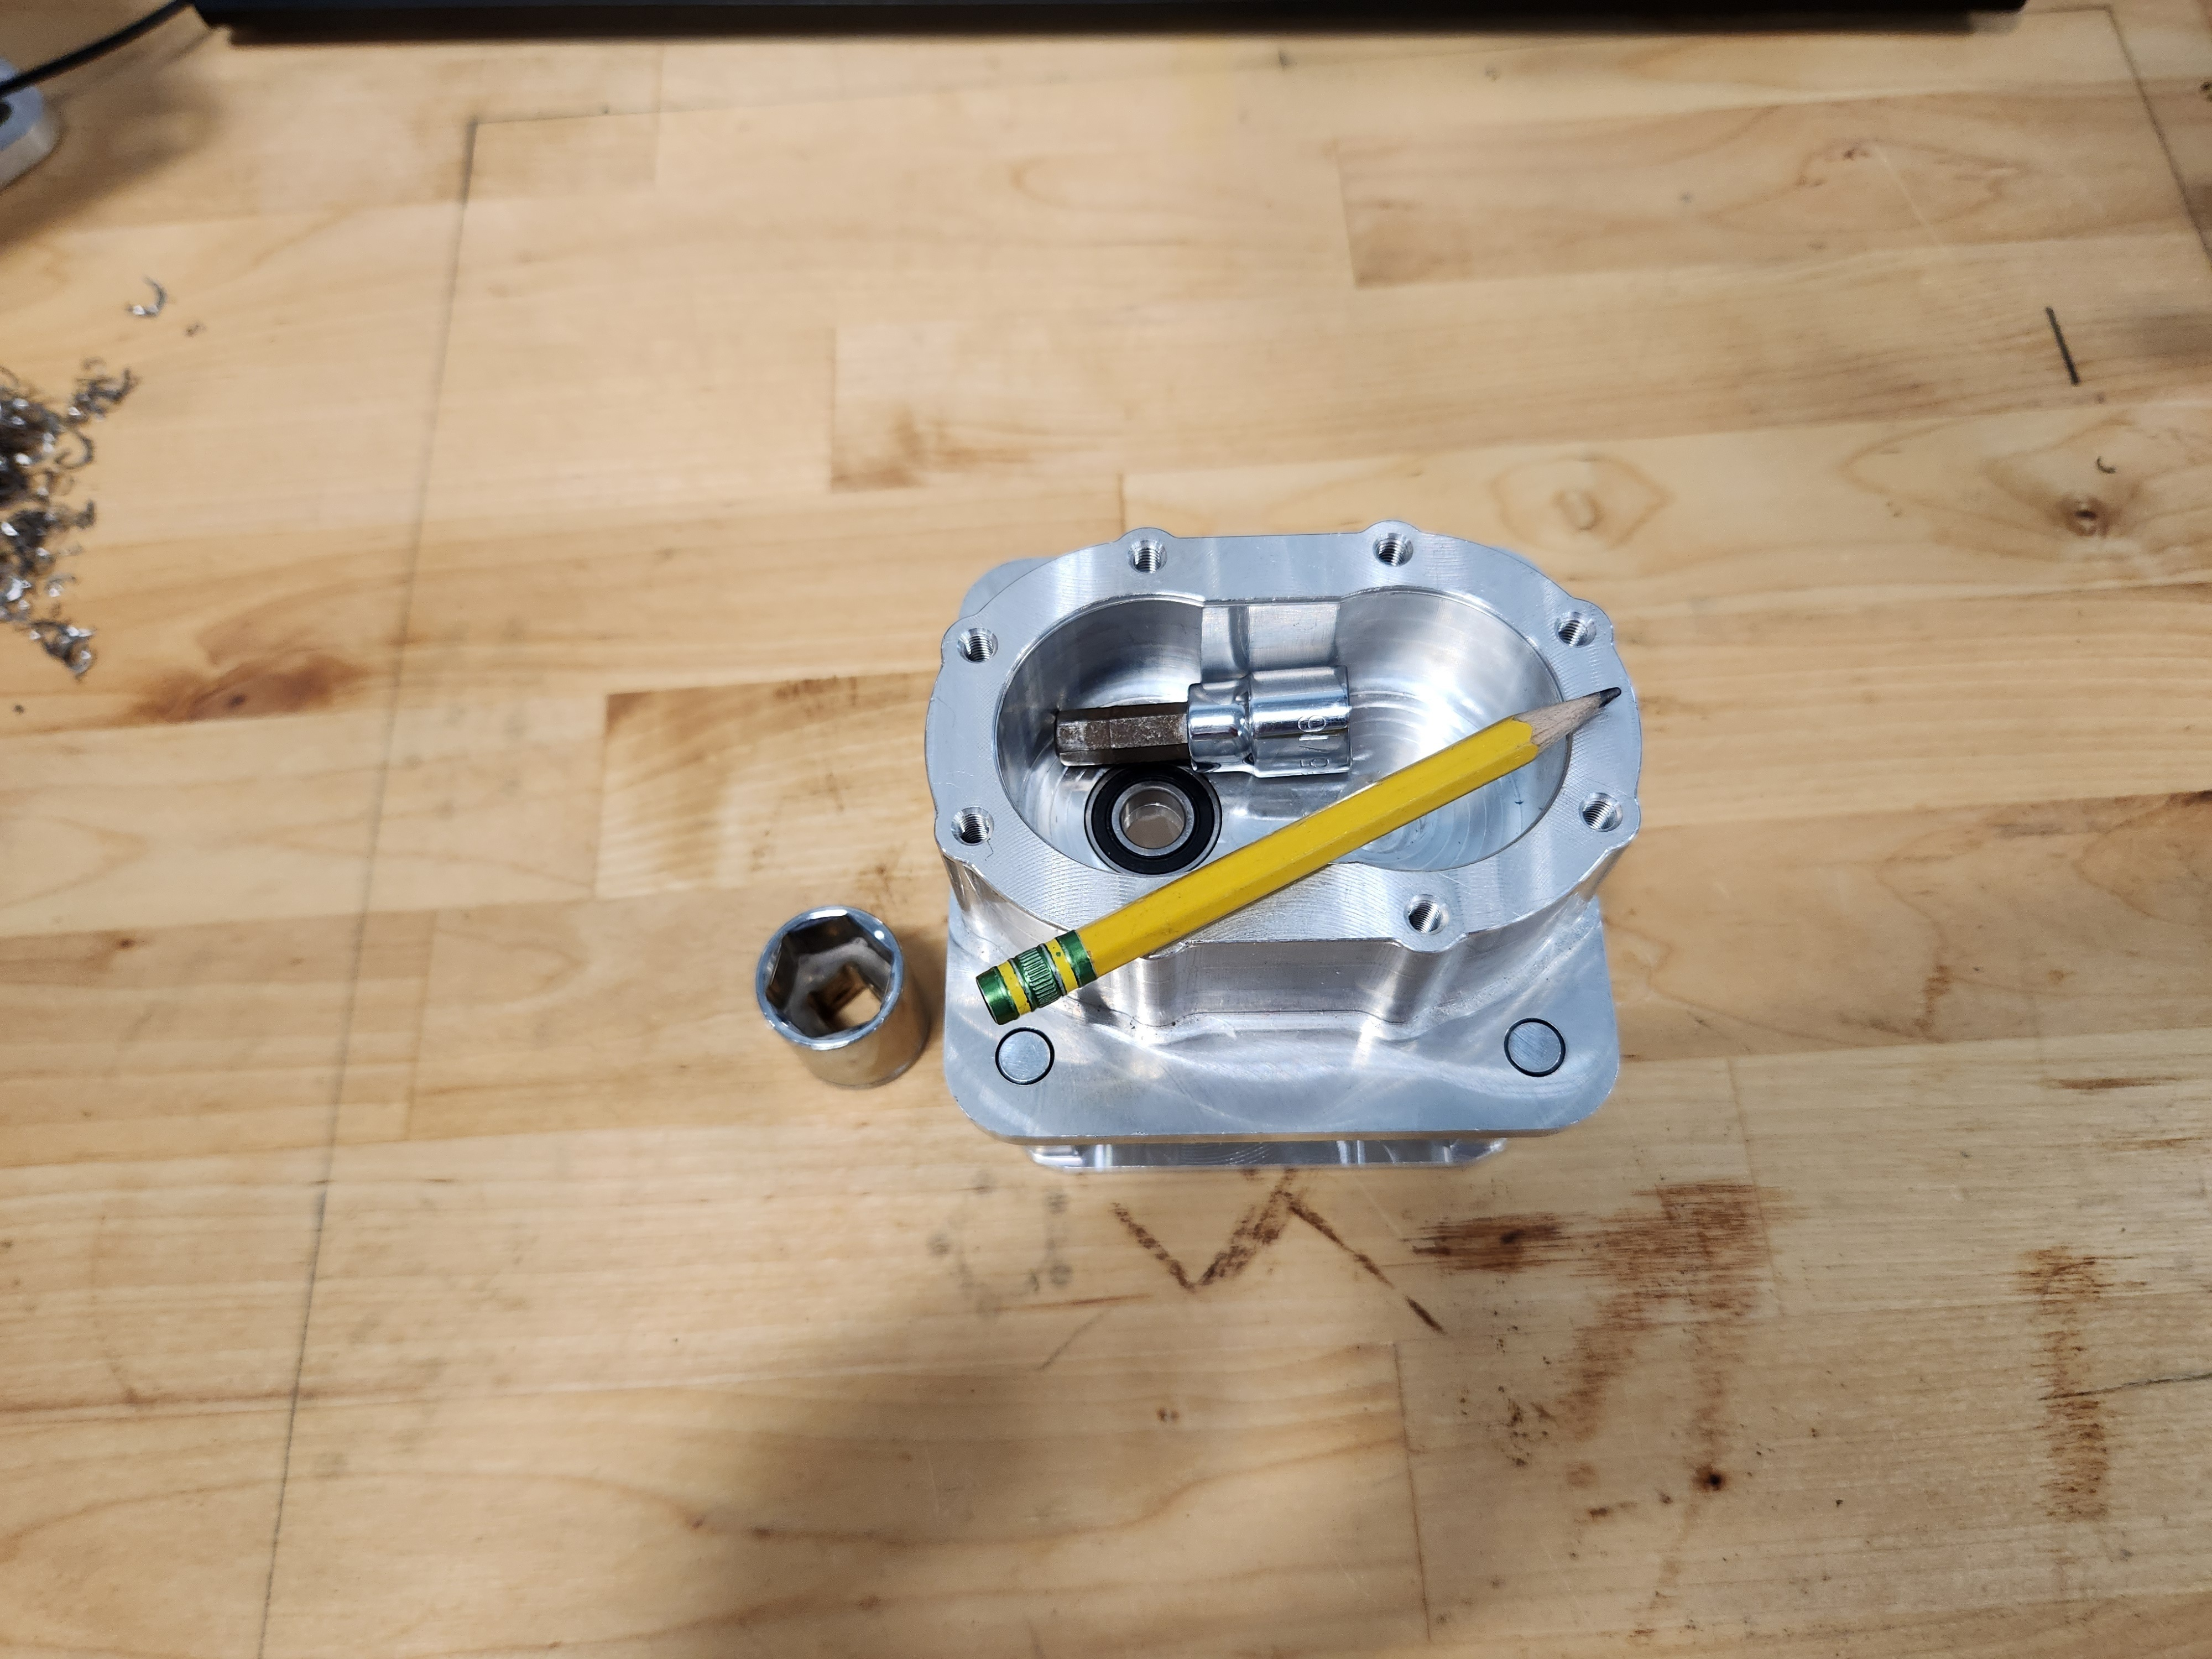pencil: (968, 676, 1634, 1037)
tool bit: (1049, 659, 1369, 789), (747, 899, 939, 1098)
